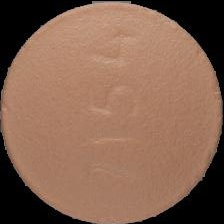54458-933: (0, 0, 224, 224)
